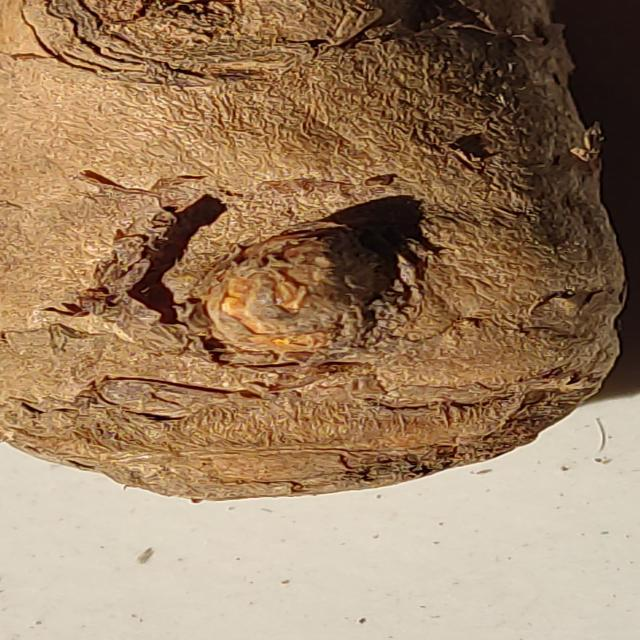ginger: (12, 0, 639, 482)
